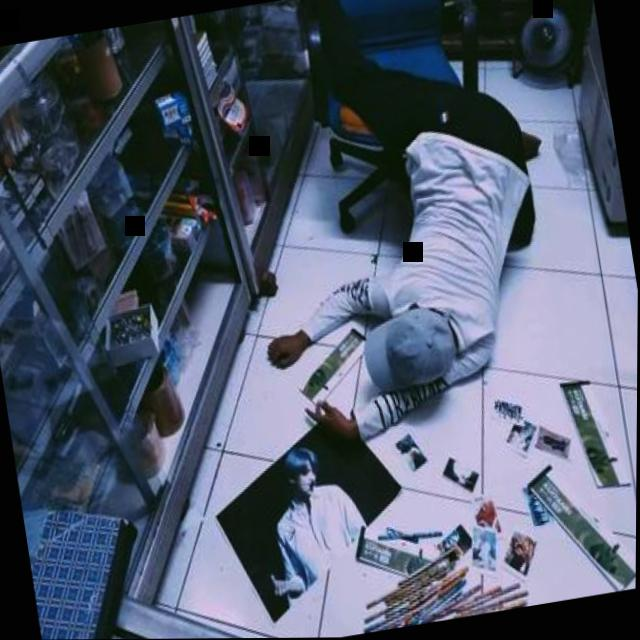Fall-Detected: (196, 0, 595, 463)
